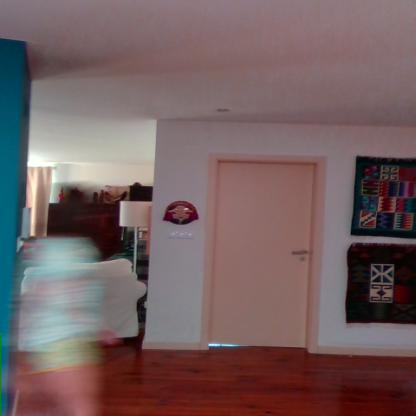door: (216, 162, 312, 348)
lever: (289, 251, 309, 256)
